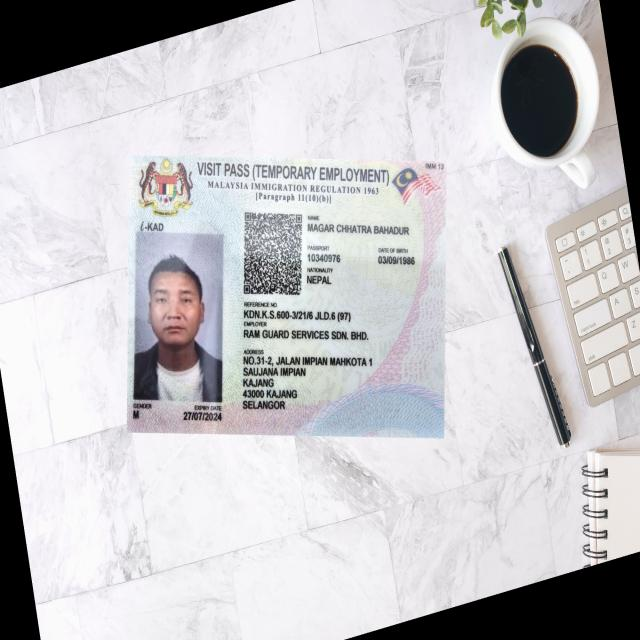ikad-temp: (126, 153, 448, 438)
